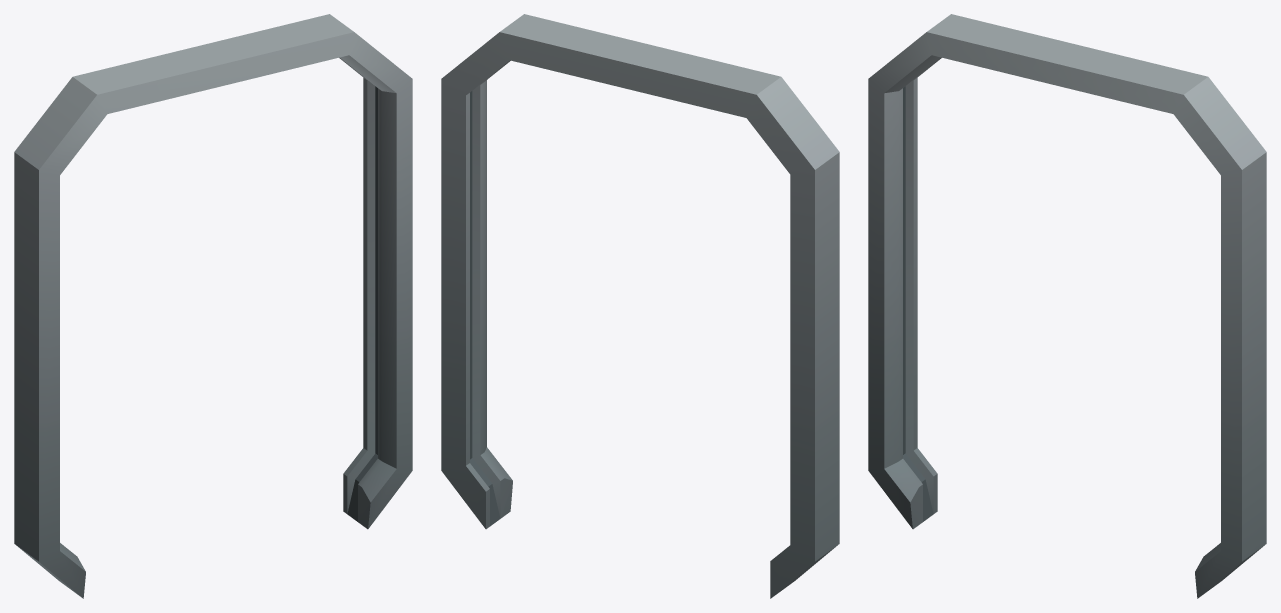
File: Door_002.fbx
3 renders of one model, left to right at view 1: azimuth 30°, elevation 25°; view 2: azimuth 150°, elevation 25°; view 3: azimuth 330°, elevation 25°, orthographic.
Visible parts, largest first — view 1: Door_002; view 2: Door_002; view 3: Door_002.
Boxes of the visible parts, <box> form: Door_002: <box>14,14,412,598</box>; Door_002: <box>441,14,839,598</box>; Door_002: <box>868,14,1266,598</box>.
Bounding box in the file's own units: 263 × 33.15 × 336.
